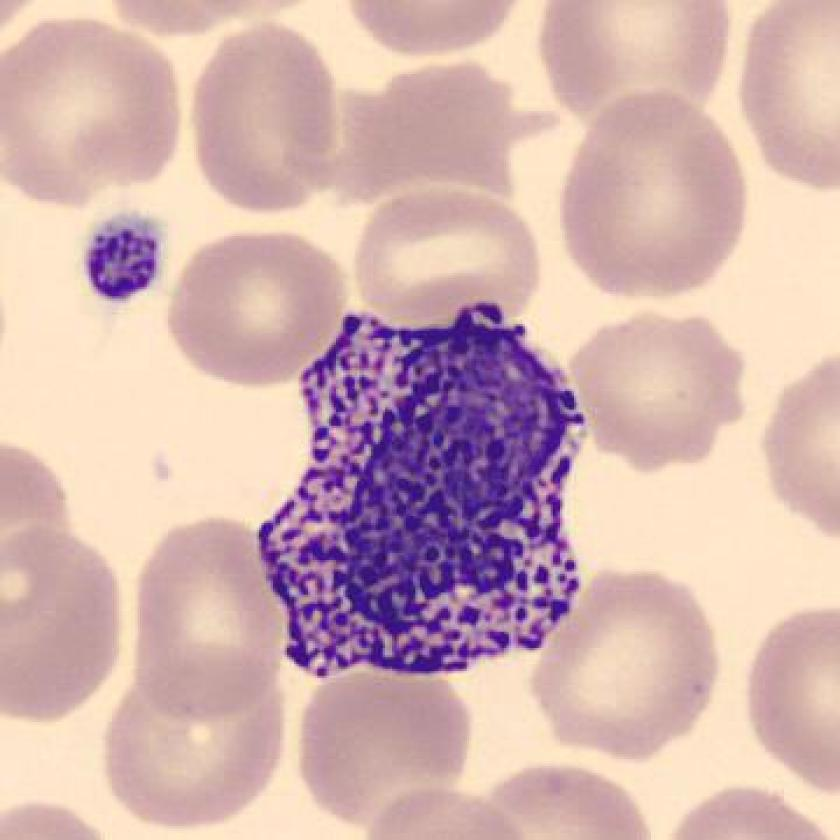basophil: (251, 297, 580, 688)
